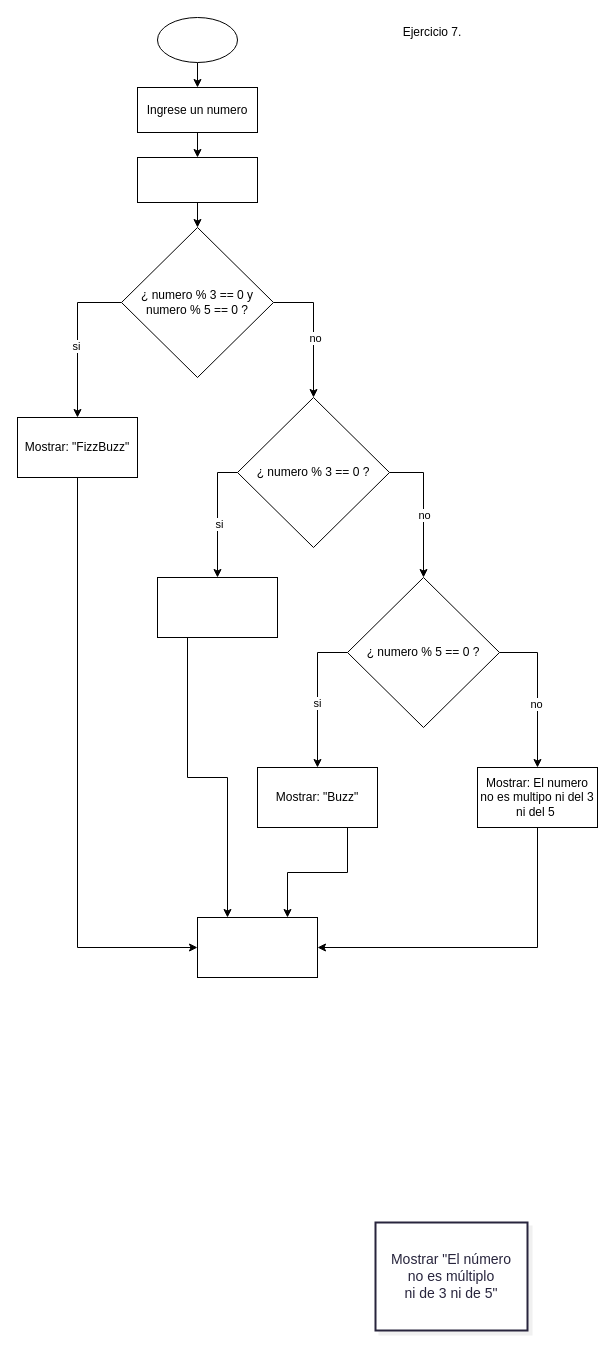
Some shapes in this 615 by 1353 pixel diagram are drawn without their labels. Each missing label, with the centre of its shape:
Fin: [257,947]
Inicio: [197,39]
Leer numero: [197,179]
Mostrar: "Fizz": [217,607]
